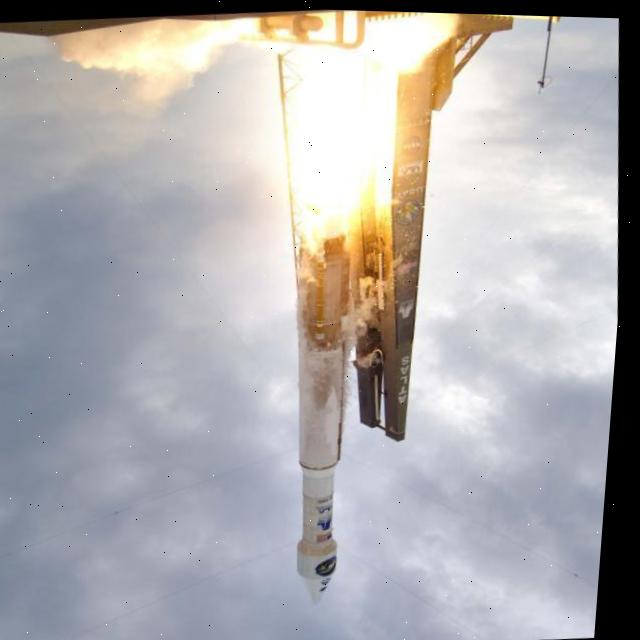missile: (271, 226, 383, 606)
